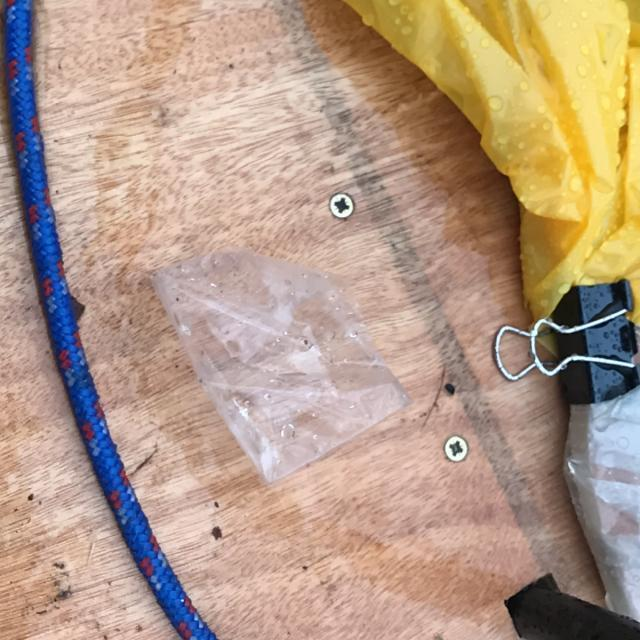Paper: (152, 248, 415, 484)
